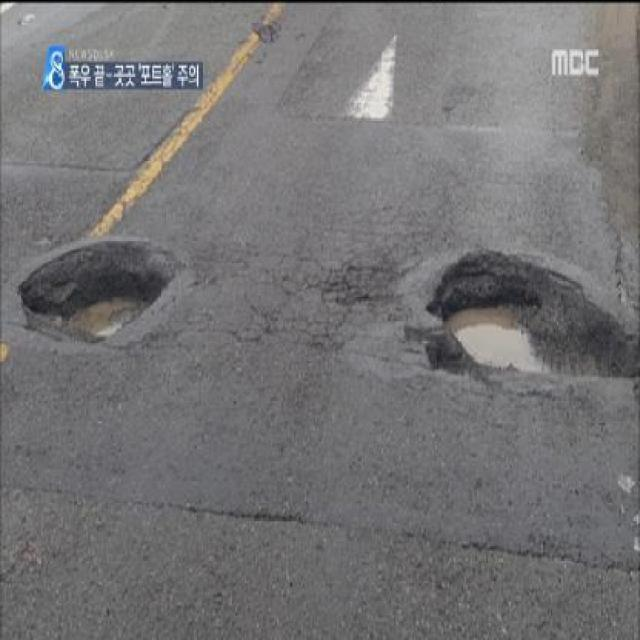Buraco: (400, 246, 640, 405), (13, 238, 194, 352)
